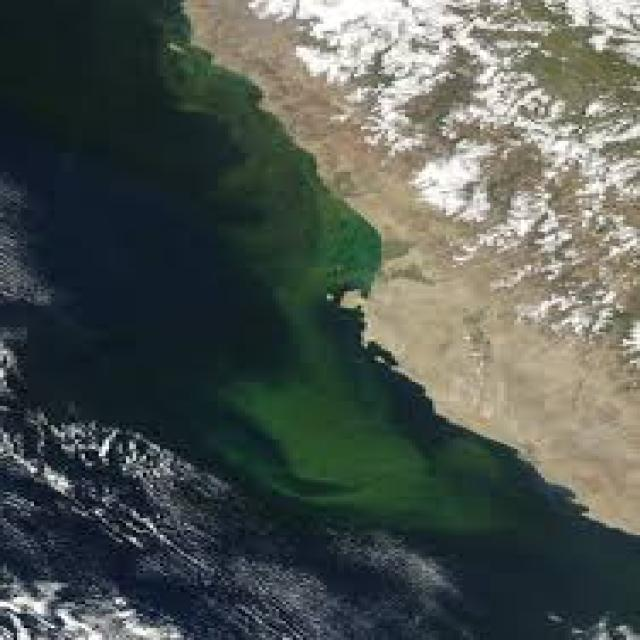algal: (4, 0, 548, 544)
